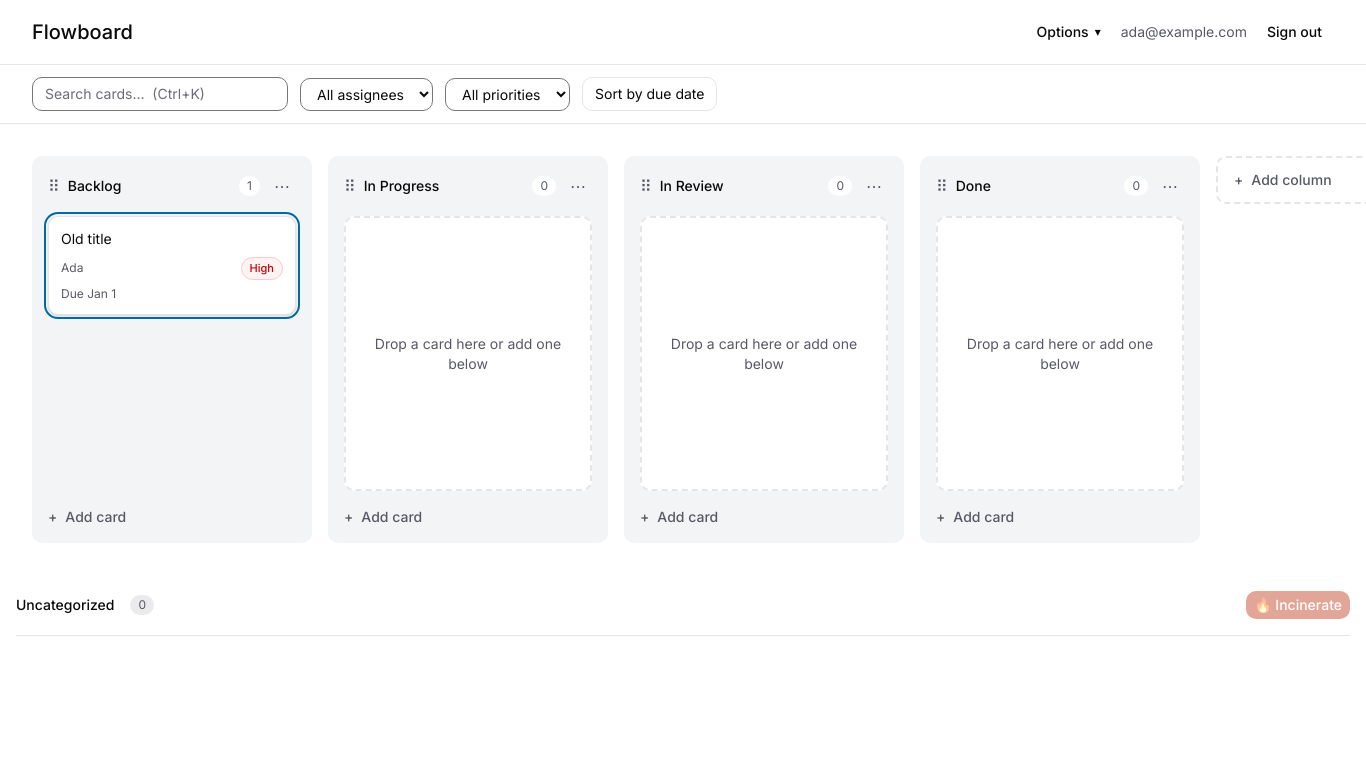
Test: Board: editing cards › opens a card with Enter, saves edits and persists them
Press Enter
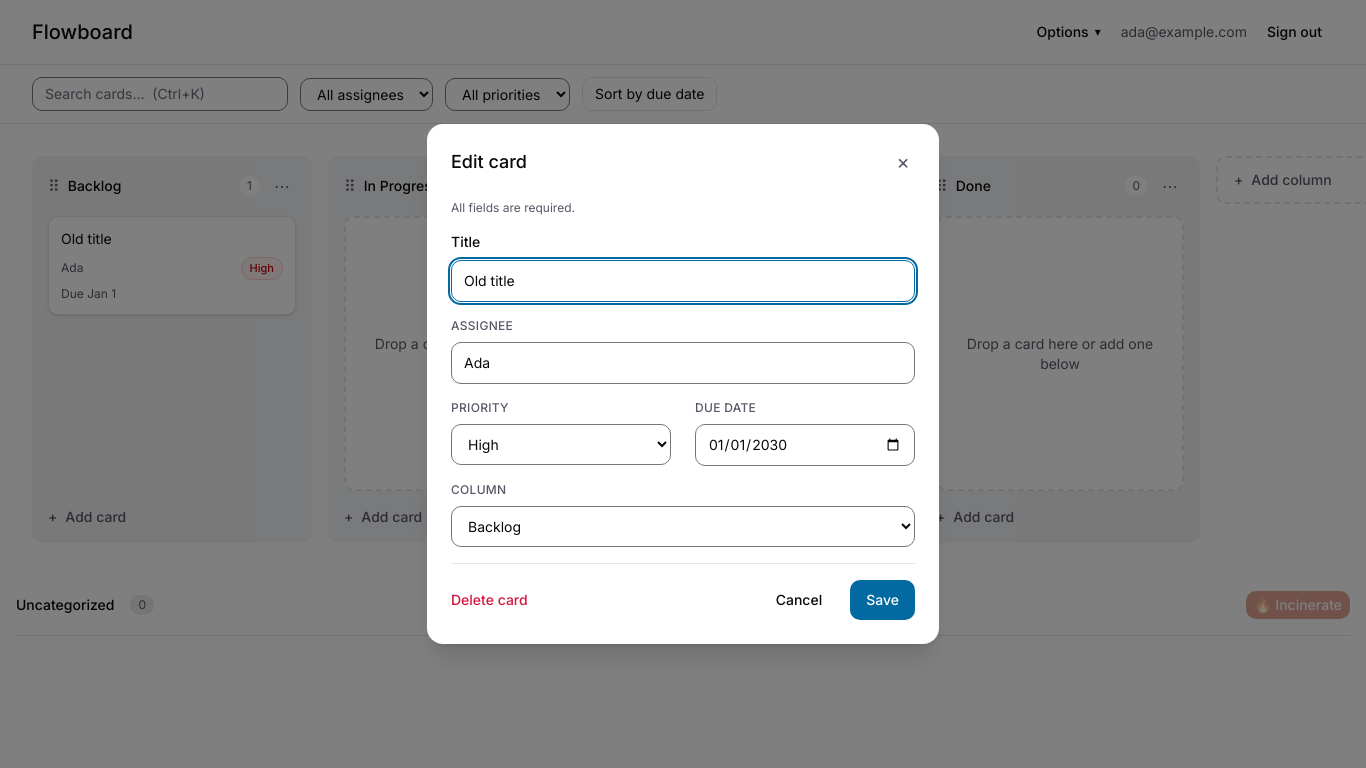
Replace the text in the field labelled "Title" with "New title" at (683, 281), box [451,260,915,302]
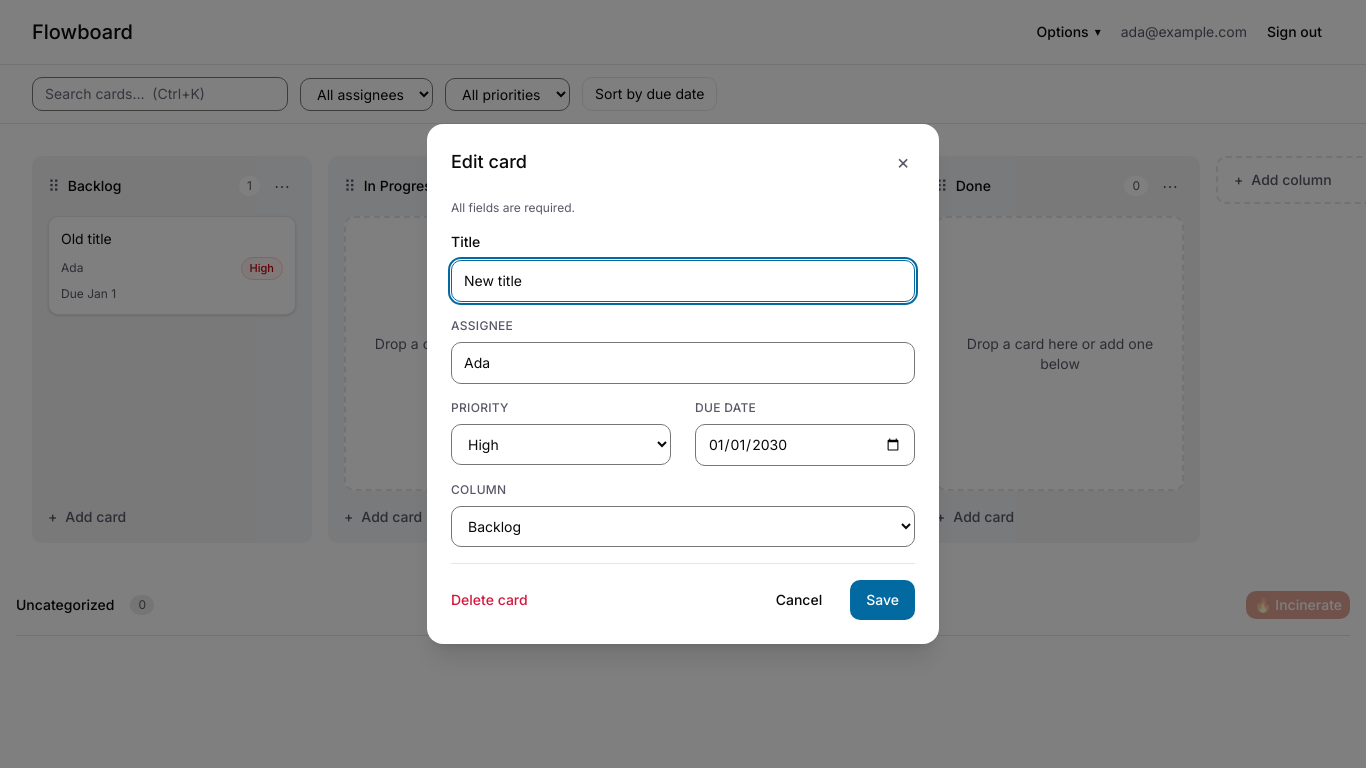
Click the button "Save" at (883, 600), box [850,580,915,620]
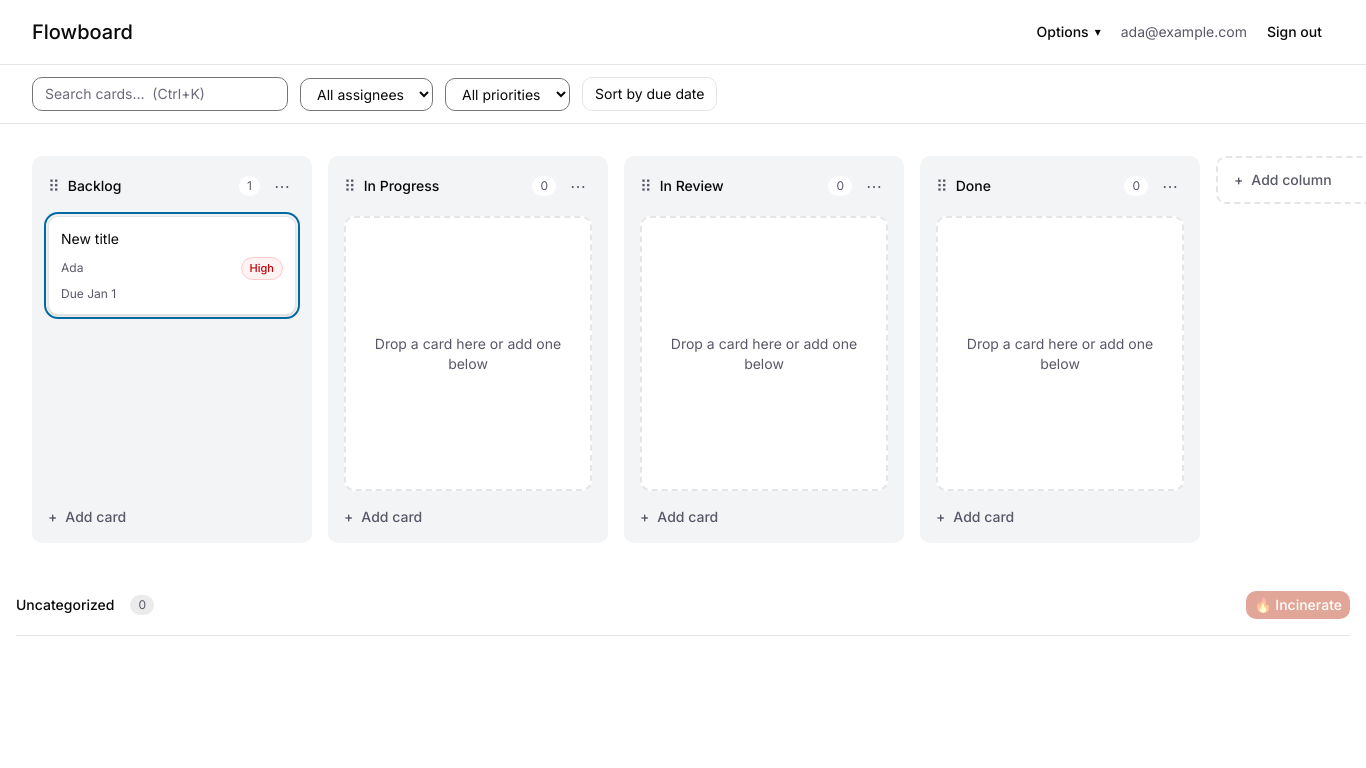
expect the text "New title" is shown: met, box [61,230,119,247]
